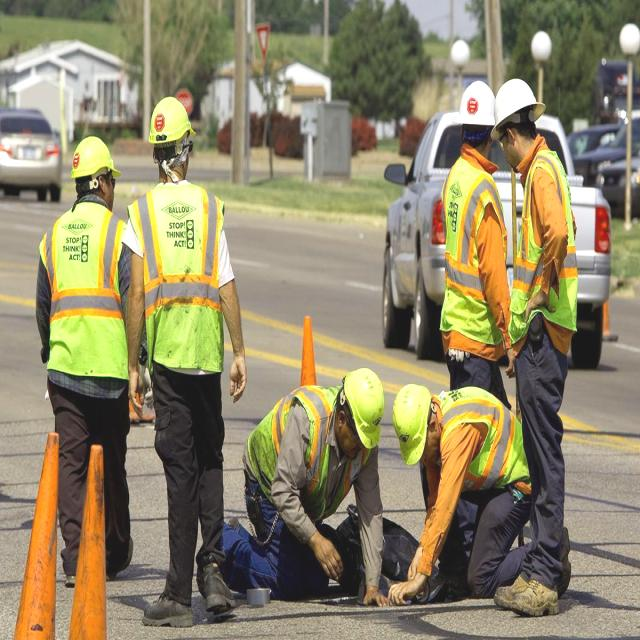hand_noglove: (388, 569, 433, 607), (314, 527, 342, 581), (523, 285, 556, 329), (125, 362, 149, 420), (228, 352, 250, 404), (359, 590, 388, 618)
head_helmet: (392, 382, 431, 466), (342, 369, 383, 447), (495, 78, 544, 130), (145, 96, 198, 142), (70, 135, 124, 177), (456, 81, 499, 127)
person: (129, 93, 238, 623), (498, 70, 592, 620), (35, 132, 139, 579), (227, 376, 396, 614), (391, 382, 536, 612), (437, 70, 506, 386)
shoes: (139, 576, 194, 633), (509, 572, 567, 623), (197, 560, 242, 618), (490, 570, 534, 612)
vest: (134, 182, 224, 370), (512, 148, 582, 362), (43, 212, 131, 379), (249, 387, 361, 511), (442, 164, 505, 346), (437, 386, 530, 498)
